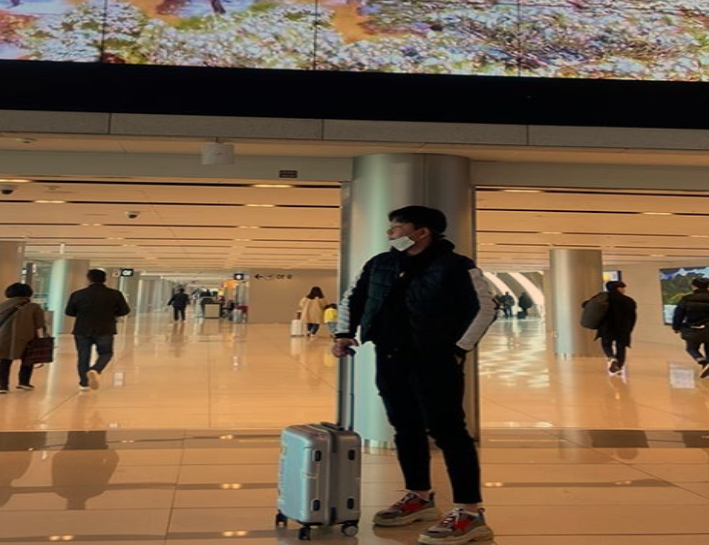mask_weared_incorrect: (381, 203, 444, 256)
